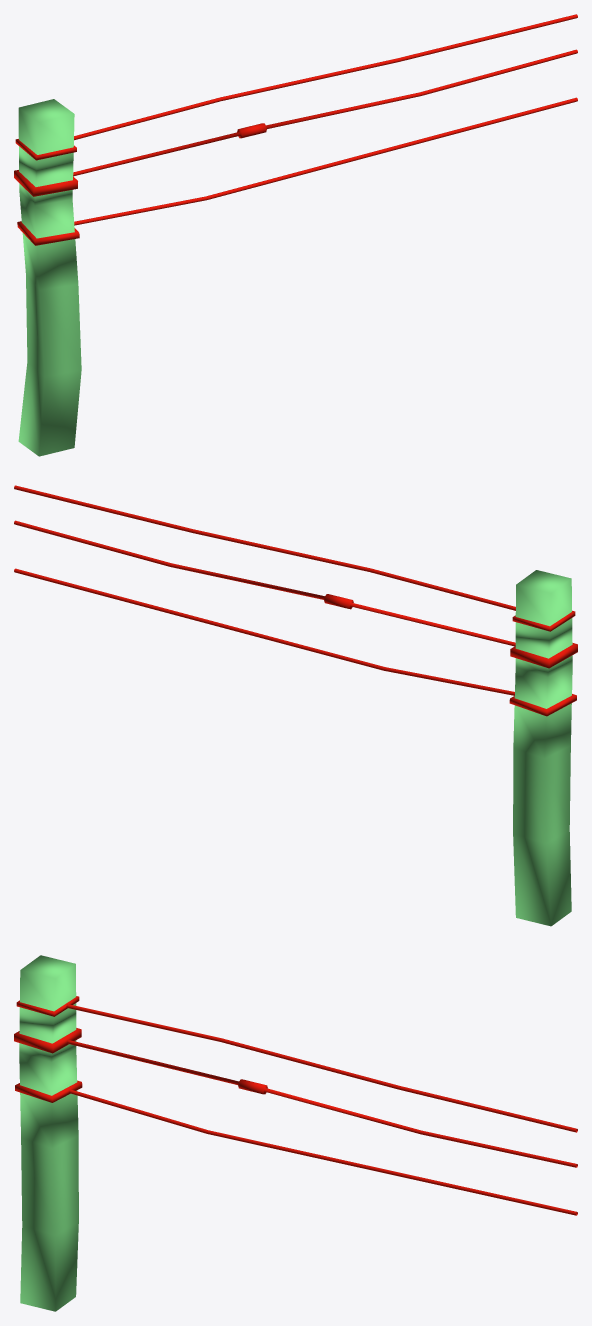
File: FencesVignePillar.fbx
3 renders of one model, top to bottom at view 1: azimuth 30°, elevation 25°; view 2: azimuth 150°, elevation 25°; view 3: azimuth 330°, elevation 25°, orthographic.
Visible parts, largest first — view 1: FenceVignePillar; view 2: FenceVignePillar; view 3: FenceVignePillar.
Part boxes in pixels (x1,y1,x2,y2): FenceVignePillar: (14,14,577,456); FenceVignePillar: (14,485,577,926); FenceVignePillar: (14,955,577,1311).
Size of the model in its own units: 337 by 194 by 29.51.
